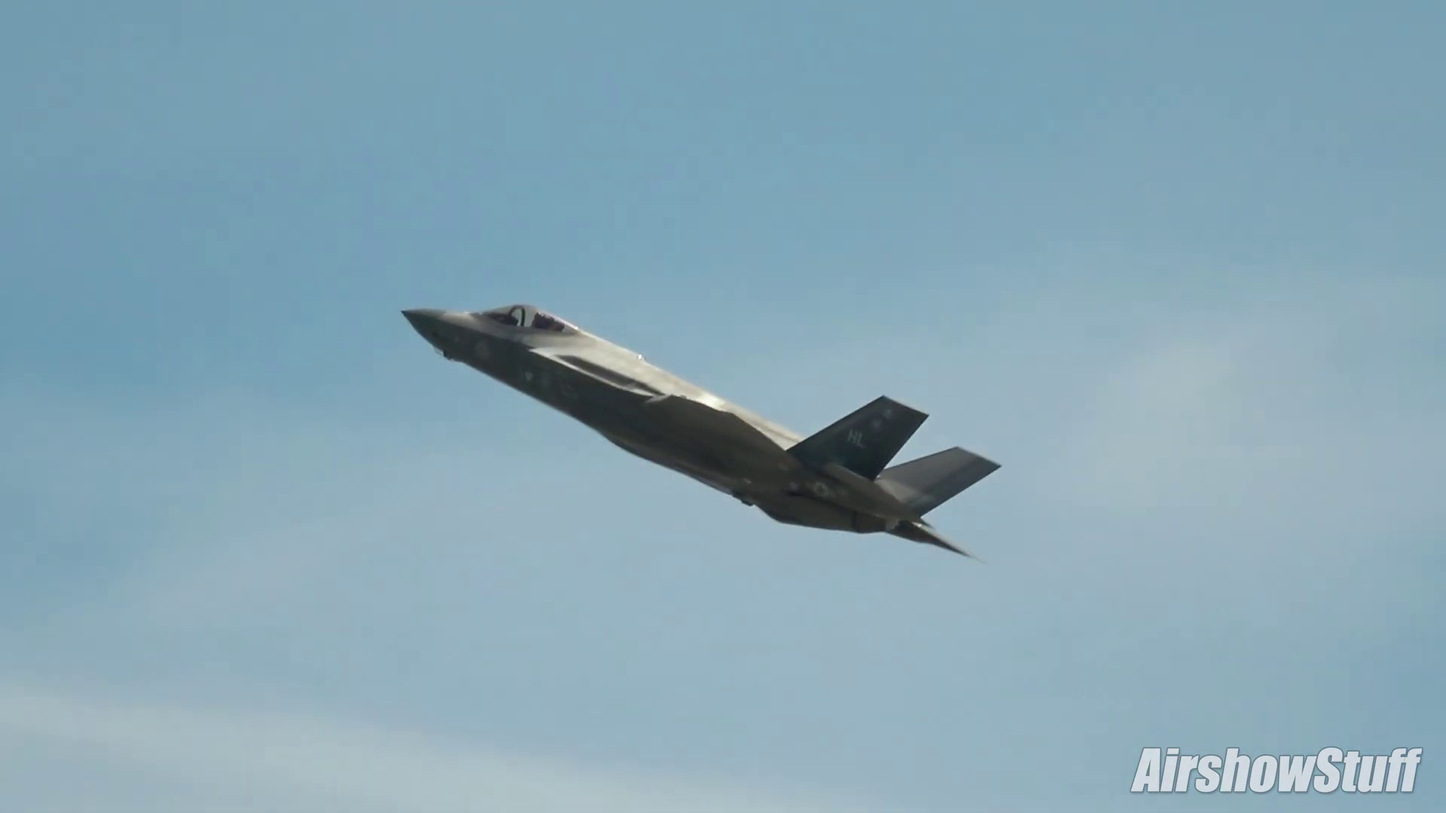F35: (399, 300, 1006, 562)
